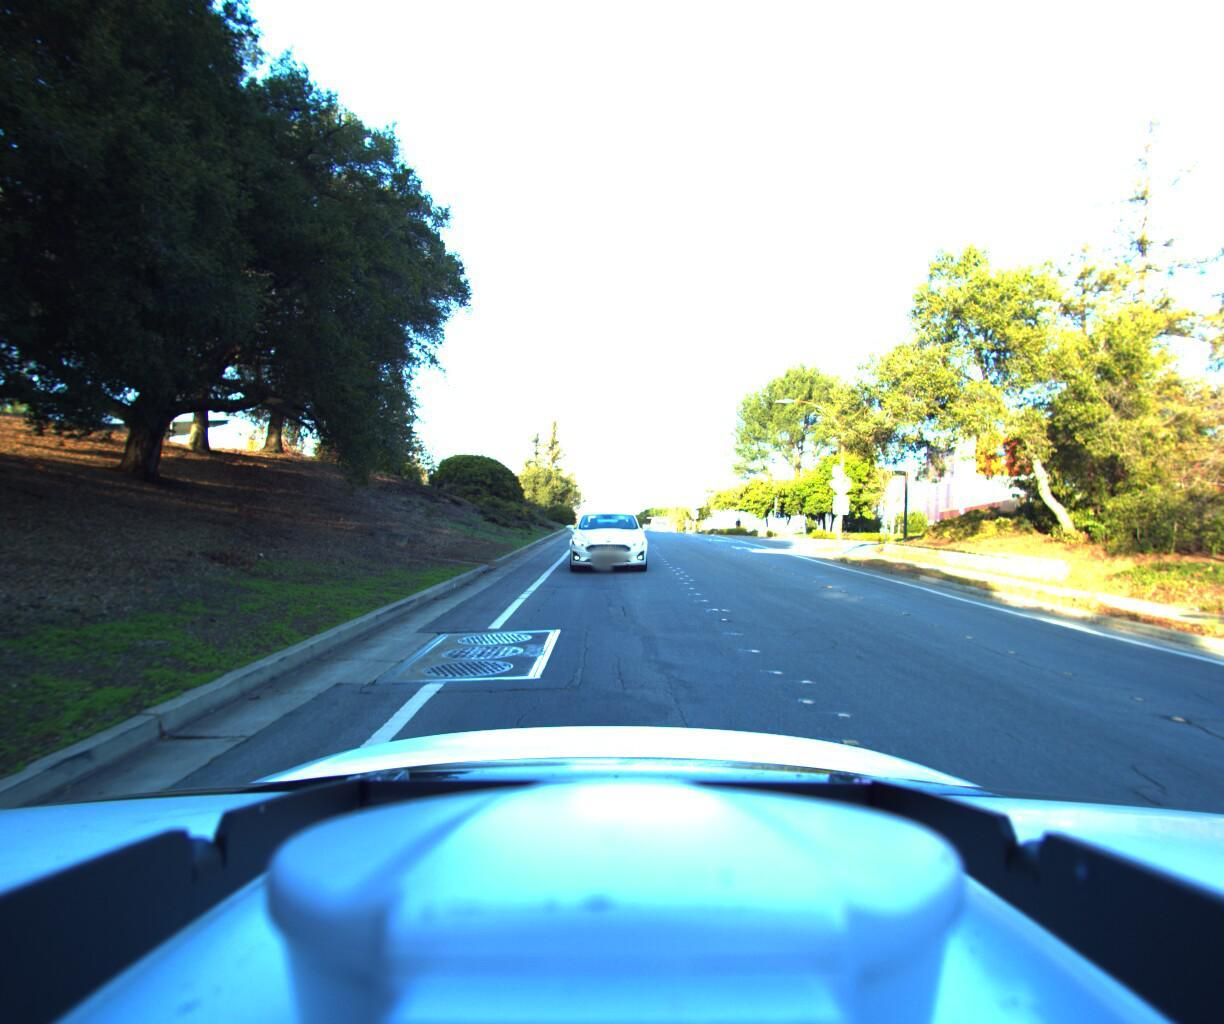car: (558, 497, 657, 580), (591, 497, 634, 539)
